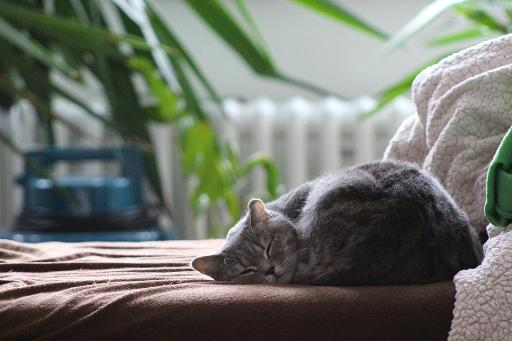cat_sleeping: (191, 161, 483, 285)
